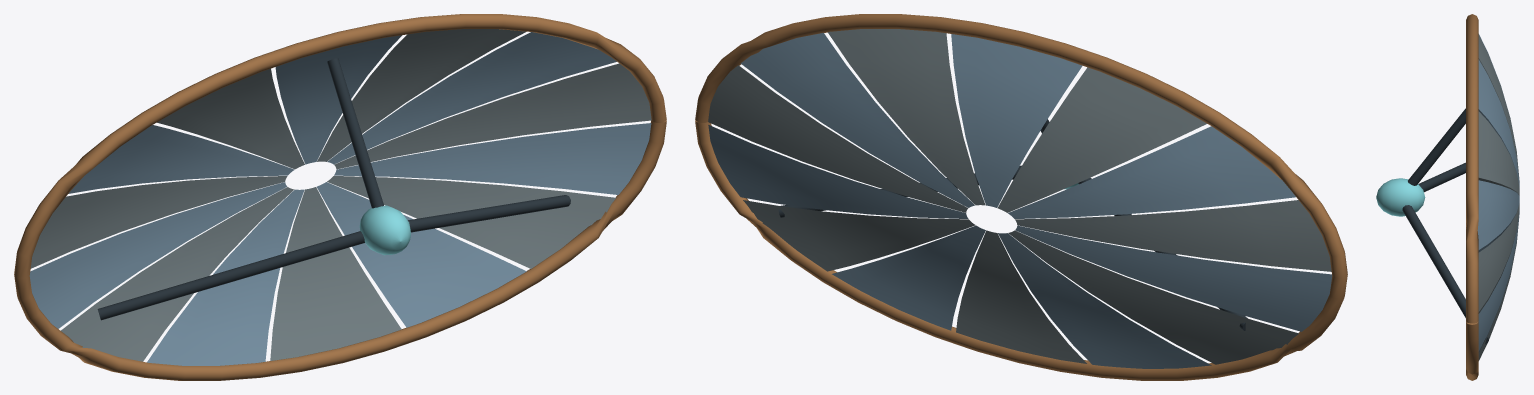
Rendered from boss_scanner.glb.
3 renders of one model, left to right at view 1: azimuth 30°, elevation 25°; view 2: azimuth 150°, elevation 25°; view 3: azimuth 270°, elevation 25°, orthographic. The views are drawn at different scales.
Visible parts, largest first — view 1: boss_scanner; view 2: boss_scanner; view 3: boss_scanner.
Part boxes in pixels (x1,y1,x2,y2): boss_scanner: (14, 14, 666, 380); boss_scanner: (695, 14, 1347, 380); boss_scanner: (1376, 14, 1519, 380).
Size of the model in its own units: 9.3 by 4.52 by 2.23.
